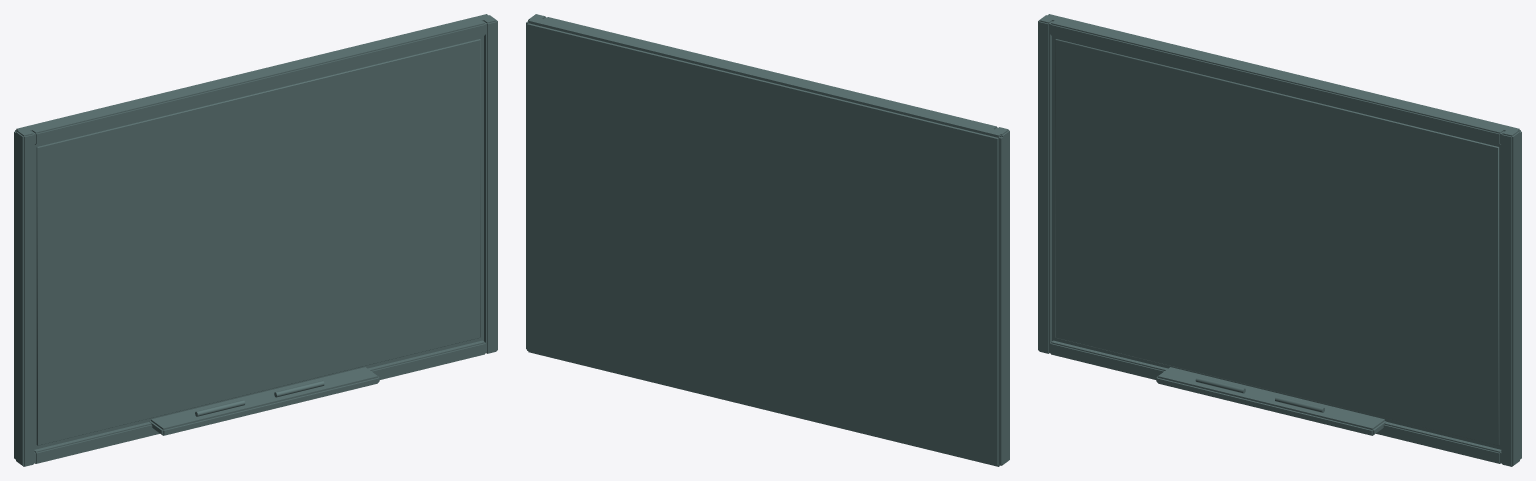
The model's file is OBJ-063_PizarraTurnos.fbx.
The picture shows the model from 3 angles, left to right: view 1: azimuth 30°, elevation 25°; view 2: azimuth 150°, elevation 25°; view 3: azimuth 330°, elevation 25°; orthographic projection.
Parts seen in each view (by area): view 1: GEO-OBJ-063_PizarraTurnos.001; view 2: GEO-OBJ-063_PizarraTurnos.001; view 3: GEO-OBJ-063_PizarraTurnos.001.
Boxes of the visible parts, <box> form: GEO-OBJ-063_PizarraTurnos.001: <box>14,14,497,466</box>; GEO-OBJ-063_PizarraTurnos.001: <box>526,14,1009,466</box>; GEO-OBJ-063_PizarraTurnos.001: <box>1038,14,1521,466</box>.
Size of the model in its own units: 1.2 by 0.8 by 0.0935.
